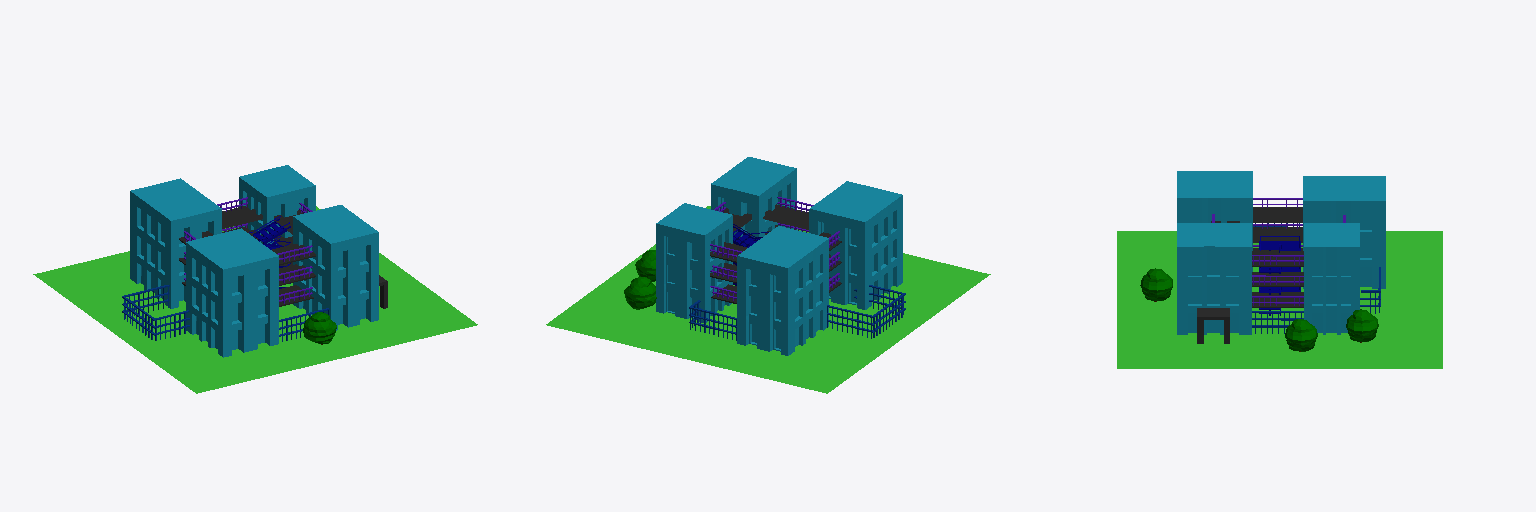
The model's file is parque.obj.
3 renders of one model, left to right at view 1: azimuth 30°, elevation 25°; view 2: azimuth 150°, elevation 25°; view 3: azimuth 270°, elevation 25°, orthographic.
Parts seen in each view (by area): view 1: Plano, Torre2, Torre005, Torre006, Torre007, Piso4, Foliage003, Piso3, Escaleras3; view 2: Plano, Torre006, Torre2, Torre007, Torre005, Piso4, Foliage001, RejaJardin2, RejaPisoBack1; view 3: Plano, Torre005, Torre007, Torre006, Torre2, Piso4, Piso3, Foliage002, Foliage003, Foliage001, Entrada, Piso2 (+1 smaller).
Part boxes in pixels (left/top/right/bottom): Plano: left=33, top=206, right=477, bottom=393; Torre2: left=186, top=228, right=278, bottom=357; Torre005: left=293, top=205, right=378, bottom=330; Torre006: left=130, top=178, right=221, bottom=308; Torre007: left=239, top=165, right=315, bottom=244; Piso4: left=179, top=205, right=315, bottom=265; Foliage003: left=303, top=312, right=336, bottom=344; Piso3: left=179, top=226, right=315, bottom=285; Escaleras3: left=249, top=216, right=290, bottom=249; Plano: left=546, top=206, right=990, bottom=393; Torre006: left=737, top=226, right=828, bottom=355; Torre2: left=809, top=181, right=902, bottom=309; Torre007: left=656, top=203, right=732, bottom=322; Torre005: left=711, top=157, right=796, bottom=237; Piso4: left=710, top=204, right=841, bottom=262; Foliage001: left=624, top=277, right=656, bottom=309; RejaJardin2: left=689, top=300, right=736, bottom=340; RejaPisoBack1: left=872, top=293, right=905, bottom=337; Plano: left=1117, top=231, right=1442, bottom=368; Torre005: left=1177, top=223, right=1251, bottom=334; Torre007: left=1304, top=223, right=1359, bottom=334; Torre006: left=1303, top=176, right=1385, bottom=288; Torre2: left=1177, top=171, right=1252, bottom=271; Piso4: left=1211, top=207, right=1303, bottom=266; Piso3: left=1252, top=227, right=1303, bottom=286; Foliage002: left=1285, top=319, right=1317, bottom=351; Foliage003: left=1140, top=268, right=1172, bottom=301; Foliage001: left=1346, top=309, right=1378, bottom=342; Entrada: left=1197, top=308, right=1229, bottom=343; Piso2: left=1252, top=248, right=1303, bottom=307.
Size of the model in its own units: 108 by 32.46 by 108.